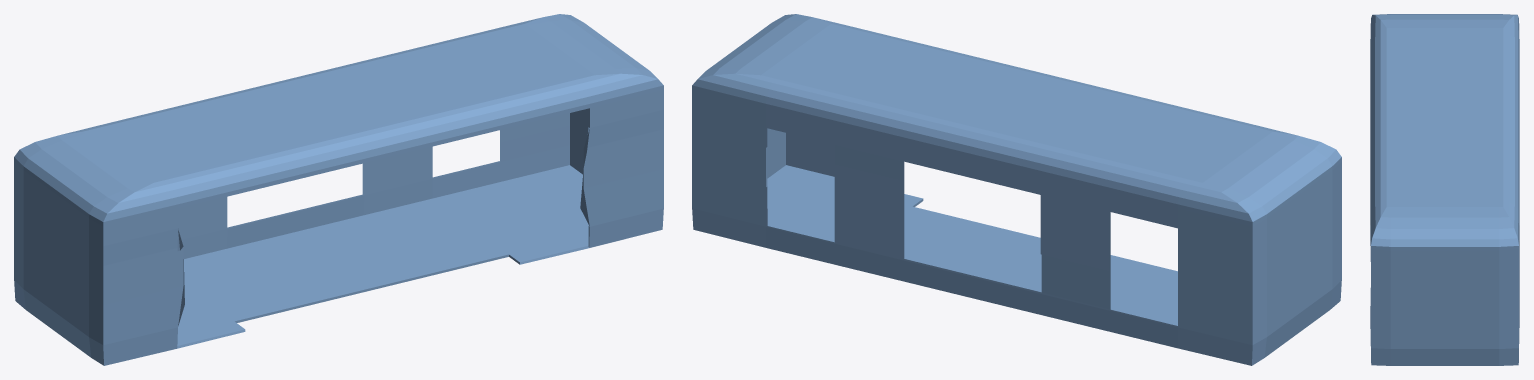
The model's file is wagon 1.fbx.
3 views of the same model, side by side, from view 1: azimuth 30°, elevation 25°; view 2: azimuth 150°, elevation 25°; view 3: azimuth 270°, elevation 25° (orthographic). The views are drawn at different scales.
Visible parts, largest first — view 1: Cube; view 2: Cube; view 3: Cube.
Part boxes in pixels (left/top/right/bottom): Cube: left=14, top=14, right=663, bottom=365; Cube: left=692, top=14, right=1341, bottom=365; Cube: left=1370, top=14, right=1519, bottom=365.
Bounding box in the file's own units: 748 × 206 × 206.
